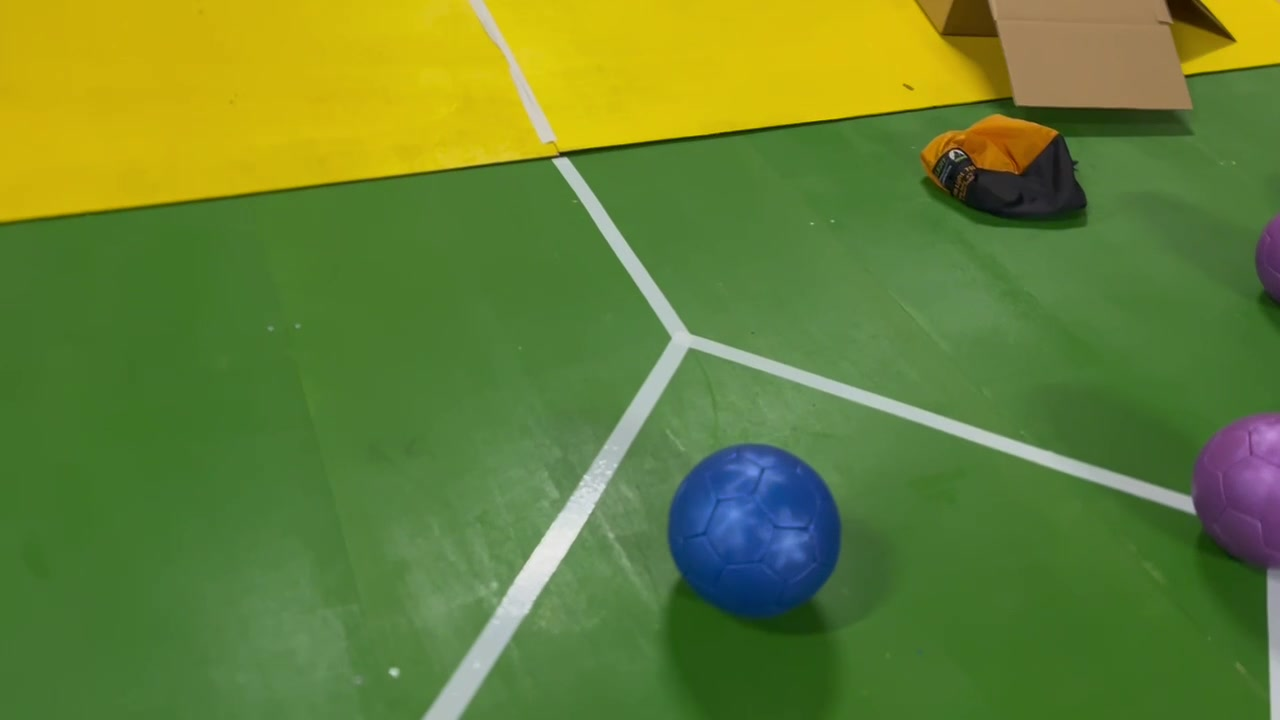blue: (661, 434, 851, 622)
